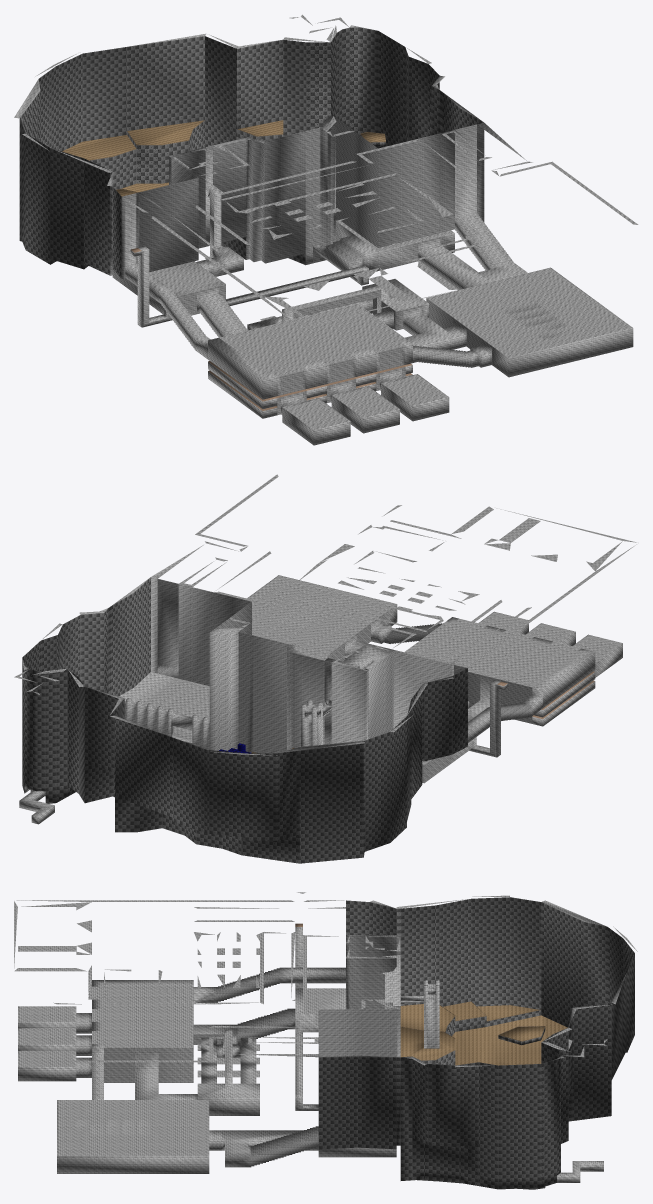
File: M_ThunderCitadel.fbx
3 renders of one model, top to bottom at view 1: azimuth 30°, elevation 25°; view 2: azimuth 150°, elevation 25°; view 3: azimuth 270°, elevation 25°, orthographic. The views are drawn at different scales.
Parts seen in each view (by area): view 1: MAP91; view 2: MAP91; view 3: MAP91.
Part boxes in pixels (x1,y1,x2,y2): MAP91: [14, 14, 638, 445]; MAP91: [14, 474, 636, 863]; MAP91: [14, 892, 637, 1189].
Bounding box in the file's own units: 10600 × 3650 × 16000.
